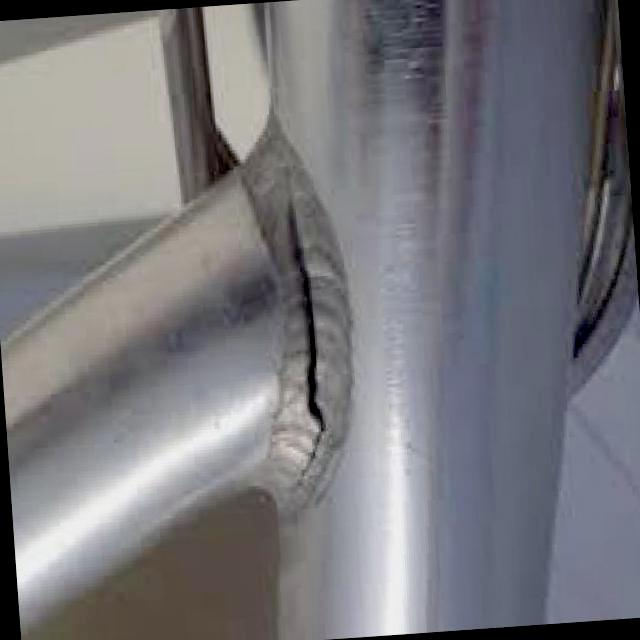defect: (280, 153, 333, 497)
